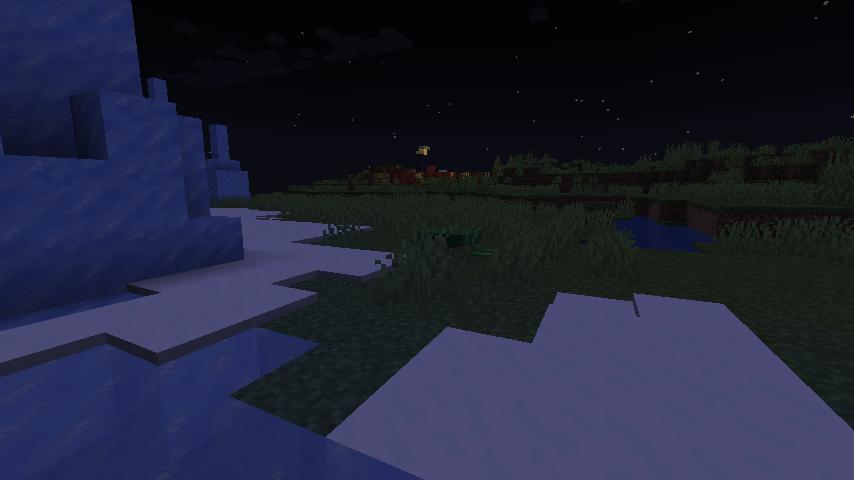turtle: (416, 224, 502, 260)
